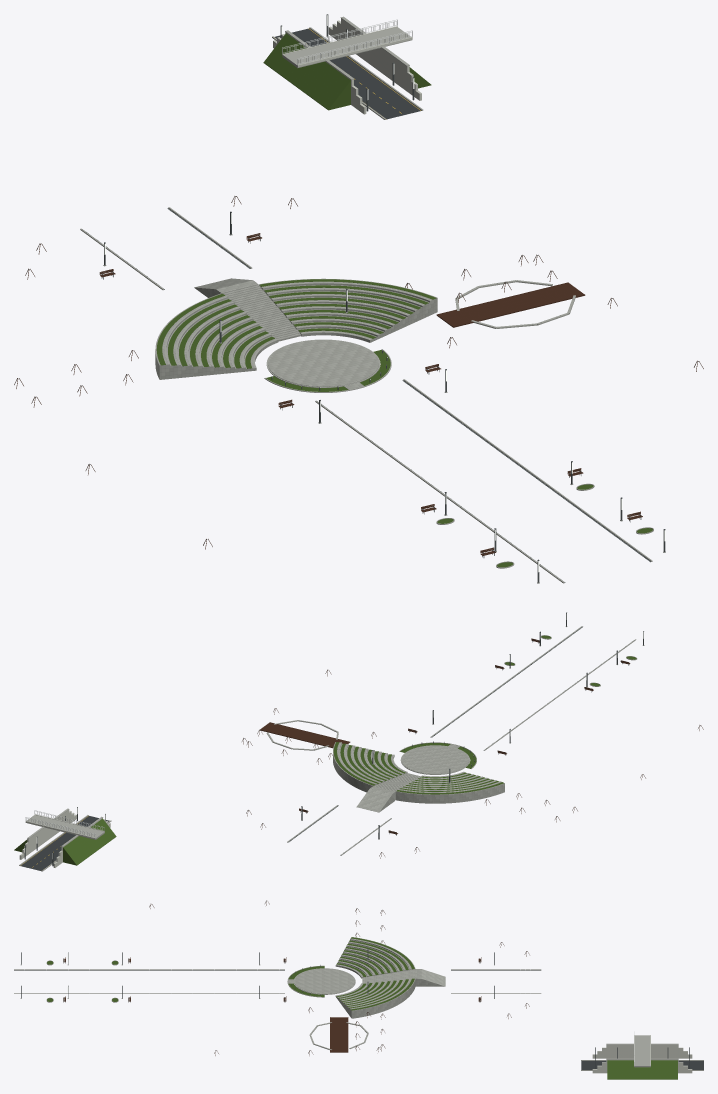
The model's file is details_scene.glb.
The picture shows the model from 3 angles, top to bottom: view 1: azimuth 30°, elevation 25°; view 2: azimuth 150°, elevation 25°; view 3: azimuth 270°, elevation 25°; orthographic projection. The views are drawn at different scales.
Parts seen in each view (by area): view 1: V3_GROUND_THEATRE_TREADS, V3_GROUND_THEATRE_GRASS, V3_GROUND_STAGE, V3_EAST_GRASS_SLOPES, V3_GROUND_THEATRE_NOSES, V3_GROUND_EAST_ASPHALT, V3_GROUND_POND_BRIDGE_PLANKS, V3_EAST_RETAINING_WALLS, V3_GROUND_CENTRAL_STAIRS, V3_PATH_CURBS, V3_EAST_BRIDGE_DECK, V3_EAST_WHITE_RAIL (+1 smaller); view 2: V3_GROUND_THEATRE_TREADS, V3_GROUND_THEATRE_GRASS, V3_GROUND_STAGE, V3_GROUND_THEATRE_NOSES, V3_EAST_GRASS_SLOPES, V3_GROUND_EAST_ASPHALT, V3_PATH_CURBS, V3_EAST_RETAINING_WALLS, V3_GROUND_POND_BRIDGE_PLANKS, V3_EAST_BRIDGE_DECK, V3_GROUND_NORTH_RAMP, V3_EAST_WHITE_RAIL (+1 smaller); view 3: V3_GROUND_THEATRE_TREADS, V3_GROUND_THEATRE_GRASS, V3_EAST_RETAINING_WALLS, V3_EAST_GRASS_SLOPES, V3_GROUND_STAGE, V3_GROUND_THEATRE_NOSES, V3_PATH_CURBS, V3_GROUND_POND_BRIDGE_PLANKS, V3_EAST_BRIDGE_DECK, V3_GROUND_CENTRAL_STAIRS, V3_GROUND_NORTH_RAMP, V3_PATH_DRAIN_CHANNEL (+1 smaller).
Boxes of the visible parts, x1,y1,x2,y2 form: V3_GROUND_THEATRE_TREADS: (155, 278, 437, 379); V3_GROUND_THEATRE_GRASS: (156, 279, 436, 368); V3_GROUND_STAGE: (268, 339, 378, 386); V3_EAST_GRASS_SLOPES: (263, 33, 431, 110); V3_GROUND_THEATRE_NOSES: (164, 282, 430, 367); V3_GROUND_EAST_ASPHALT: (275, 28, 421, 119); V3_GROUND_POND_BRIDGE_PLANKS: (437, 283, 584, 326); V3_EAST_RETAINING_WALLS: (273, 18, 421, 114); V3_GROUND_CENTRAL_STAIRS: (220, 283, 300, 341); V3_PATH_CURBS: (80, 207, 652, 583); V3_EAST_BRIDGE_DECK: (282, 27, 411, 67); V3_EAST_WHITE_RAIL: (282, 19, 412, 65); V3_GROUND_THEATRE_TREADS: (333, 742, 504, 803); V3_GROUND_THEATRE_GRASS: (333, 742, 503, 794); V3_GROUND_STAGE: (401, 745, 469, 774); V3_GROUND_THEATRE_NOSES: (338, 742, 500, 792); V3_EAST_GRASS_SLOPES: (14, 818, 116, 865); V3_GROUND_EAST_ASPHALT: (20, 816, 109, 871); V3_PATH_CURBS: (287, 626, 636, 855); V3_EAST_RETAINING_WALLS: (19, 809, 110, 867); V3_GROUND_POND_BRIDGE_PLANKS: (260, 722, 349, 747); V3_EAST_BRIDGE_DECK: (25, 815, 104, 839); V3_GROUND_NORTH_RAMP: (356, 788, 392, 812); V3_EAST_WHITE_RAIL: (25, 810, 104, 837); V3_GROUND_THEATRE_TREADS: (335, 937, 415, 1018); V3_GROUND_THEATRE_GRASS: (336, 937, 414, 1010); V3_EAST_RETAINING_WALLS: (592, 1045, 692, 1073); V3_EAST_GRASS_SLOPES: (607, 1060, 677, 1079); V3_GROUND_STAGE: (294, 968, 354, 994); V3_GROUND_THEATRE_NOSES: (336, 939, 410, 1008); V3_PATH_CURBS: (14, 969, 541, 993); V3_GROUND_POND_BRIDGE_PLANKS: (330, 1017, 347, 1052); V3_EAST_BRIDGE_DECK: (634, 1035, 650, 1067); V3_GROUND_CENTRAL_STAIRS: (362, 969, 417, 986); V3_GROUND_NORTH_RAMP: (421, 969, 445, 986); V3_PATH_DRAIN_CHANNEL: (14, 970, 540, 970).
Bounding box in the file's own units: 116 × 5.86 × 191.
12 materials, 7 textured.
